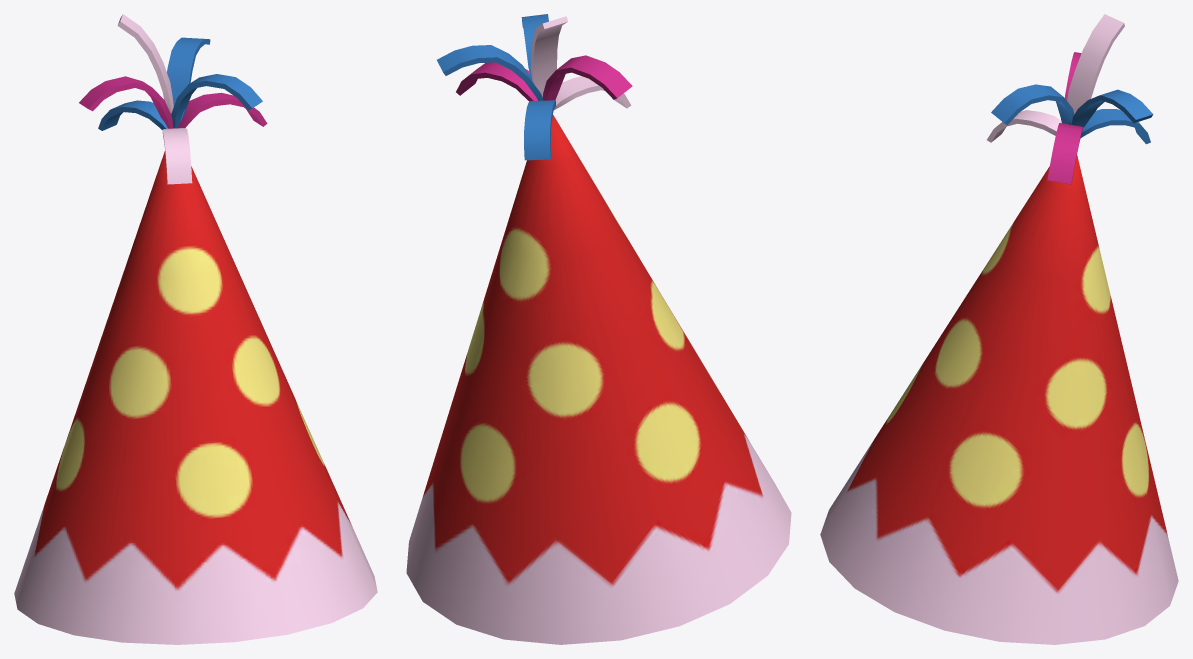
Rendered from hat_pm0004_00_hitokage_pokemonday2020.fbx.
The picture shows the model from 3 angles, left to right: view 1: azimuth 30°, elevation 25°; view 2: azimuth 150°, elevation 25°; view 3: azimuth 270°, elevation 25°; orthographic projection. The views are drawn at different scales.
Parts seen in each view (by area): view 1: hat_pm0004_00_hitokage_pokemonday2020; view 2: hat_pm0004_00_hitokage_pokemonday2020; view 3: hat_pm0004_00_hitokage_pokemonday2020.
Boxes of the visible parts, box(x1,y1,x2,y2) form: hat_pm0004_00_hitokage_pokemonday2020: box(14, 14, 377, 644); hat_pm0004_00_hitokage_pokemonday2020: box(406, 14, 791, 644); hat_pm0004_00_hitokage_pokemonday2020: box(820, 14, 1178, 644).
Size of the model in its own units: 0.1216 by 0.207 by 0.1205.
